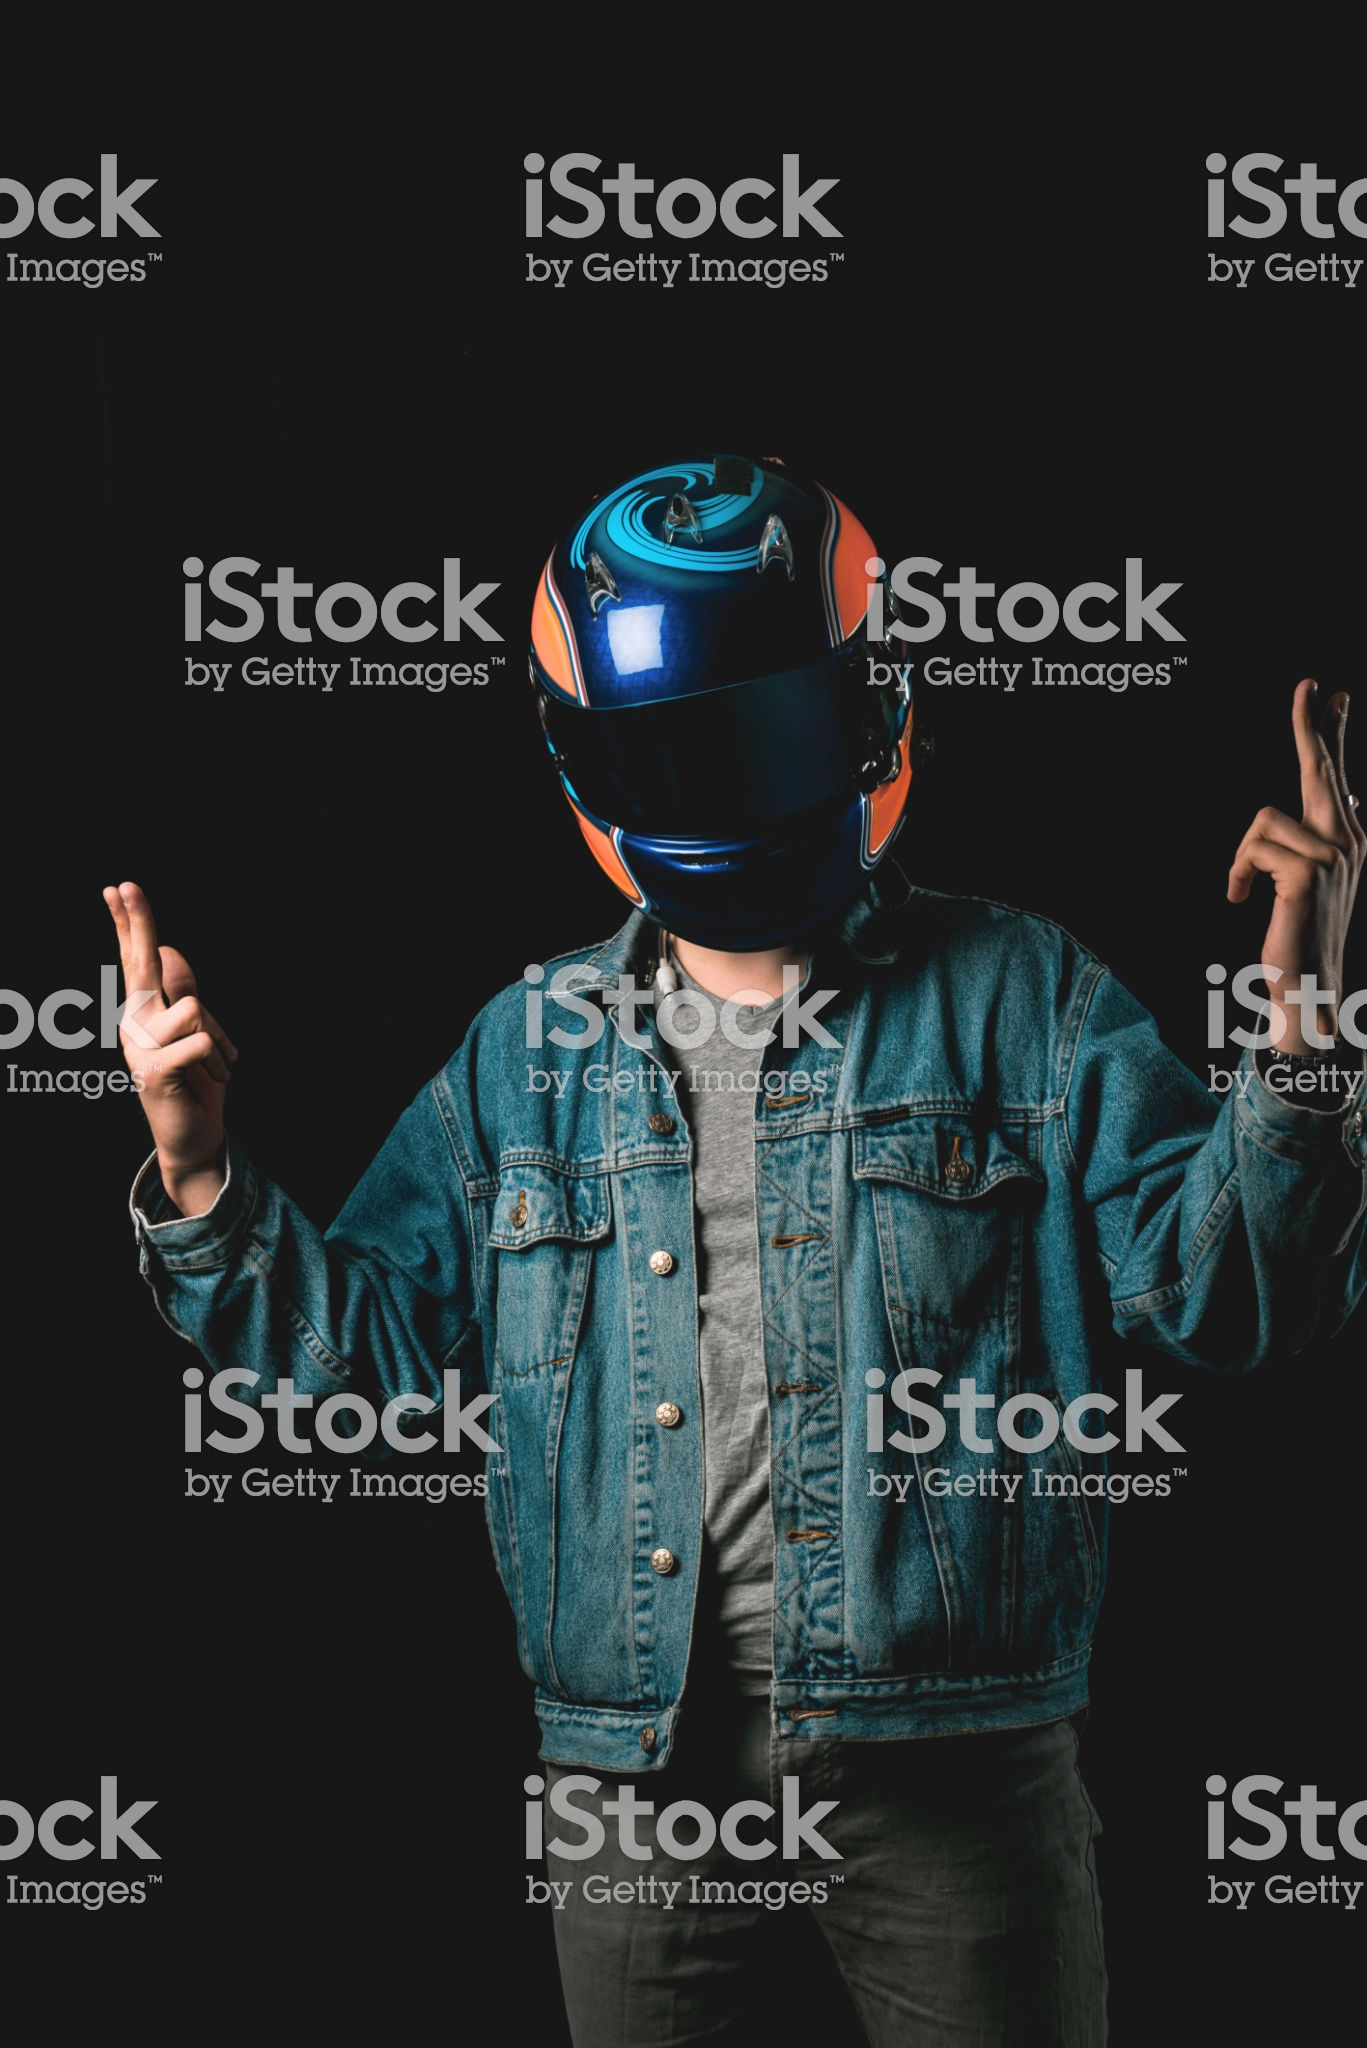helmet: (499, 450, 943, 916)
